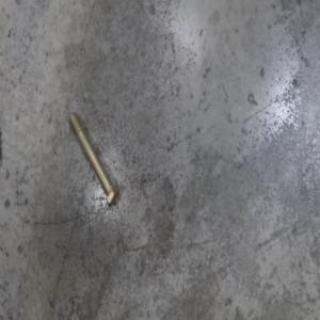Bolttrack_idkeyframe: (66, 109, 119, 208)
